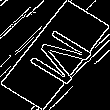M_SE: (16, 21, 94, 89)
